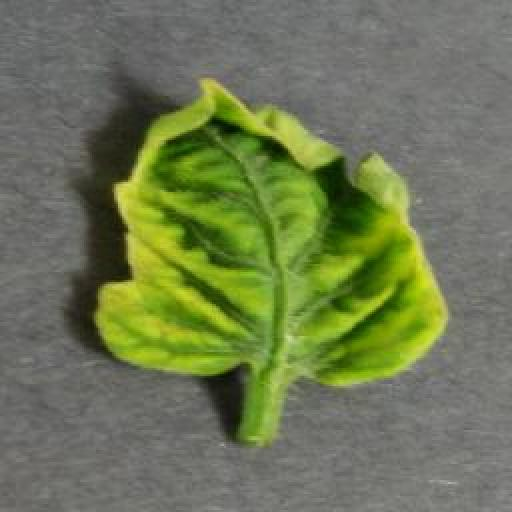disease_tomato: (91, 73, 448, 387)
